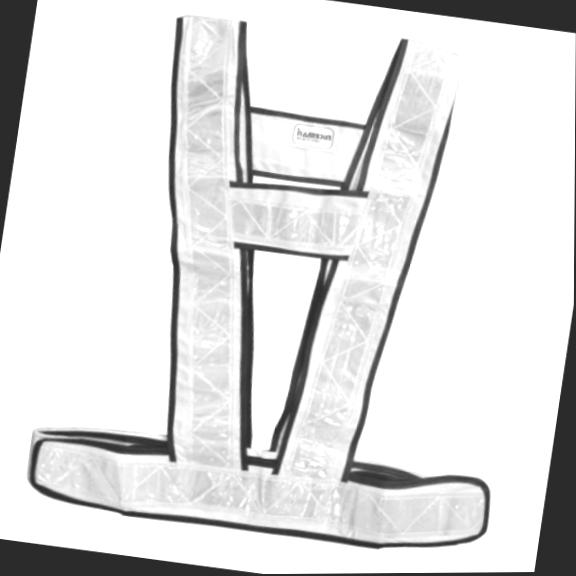safety_vest: (21, 0, 559, 568)
